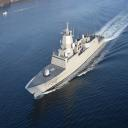Fragata: (26, 21, 108, 100)
